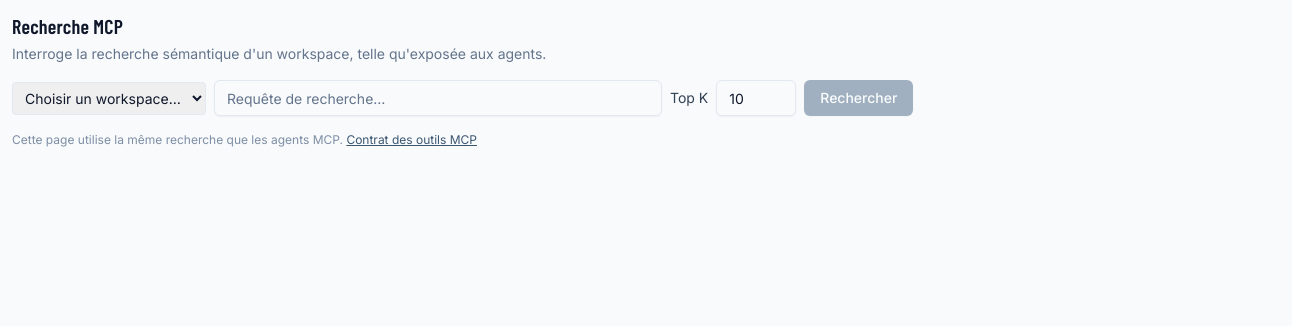
Test: McpSearchPage › lance une recherche et affiche les résultats par canaux
Step 1. Select "ws-1" in the dropdown named "Workspace" → (109,98), box [12,82,206,114]
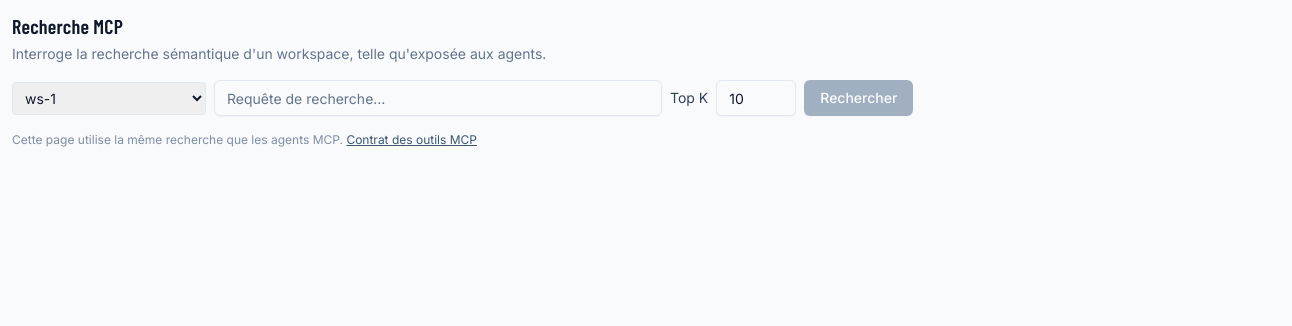
Step 2. Type "auth oidc" into the field labelled "Requête de recherche…" → (438,98), box [214,80,662,116]
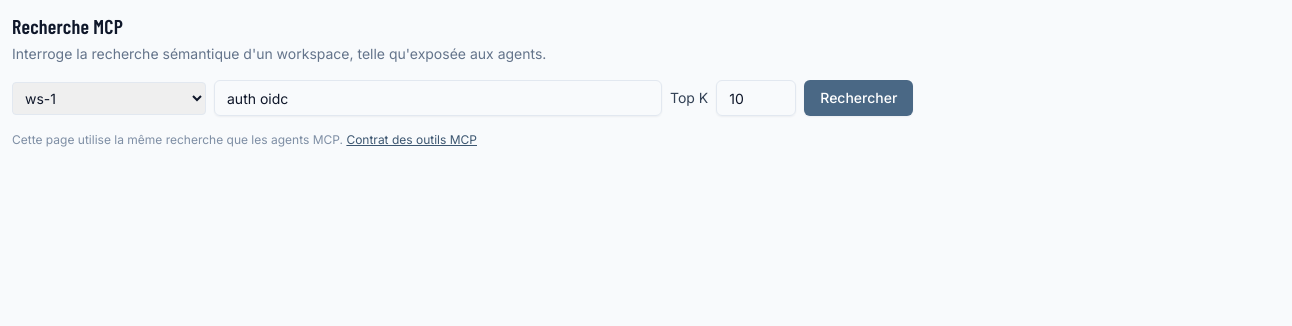
Step 3. Click the button "Rechercher" → (859,98), box [804,80,913,116]
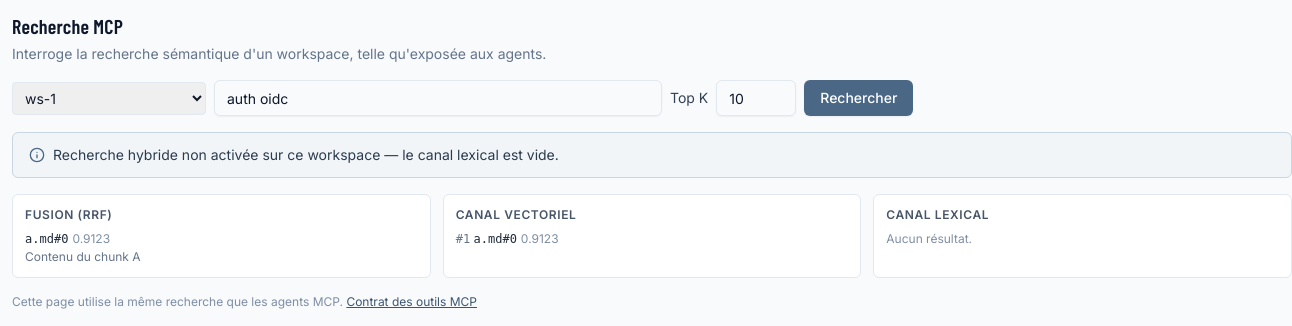
Now the text "Contenu du chunk A" is shown, box [25,249,141,264]
Now the heading "Fusion (RRF)" is shown, box [25,207,112,222]
Now the heading "Canal vectoriel" is shown, box [456,207,576,222]
